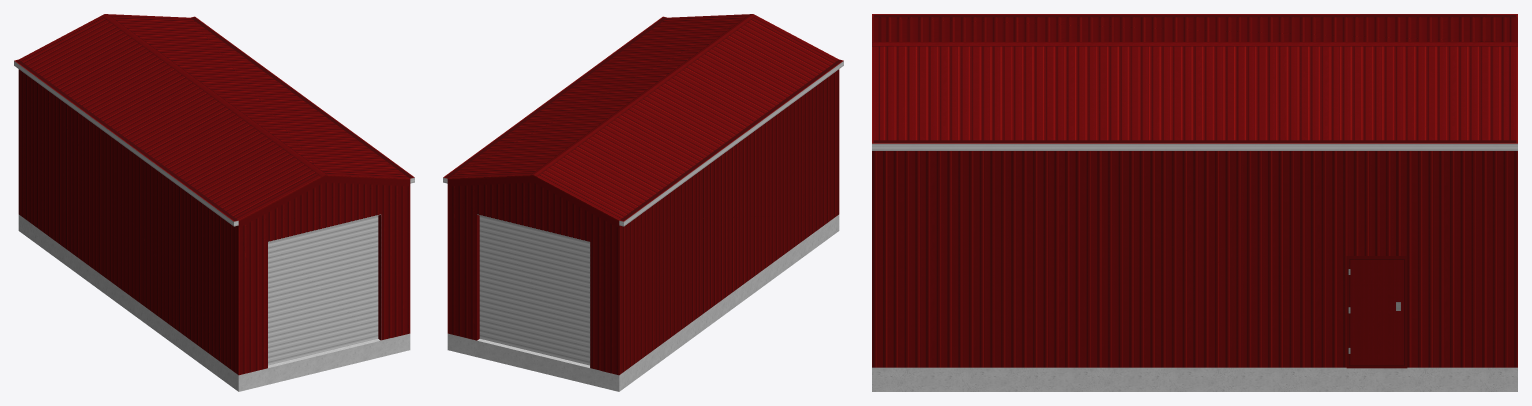
The model's file is medical-trans-station5x12-cbj_LOD00.gltf.
3 renders of one model, left to right at view 1: azimuth 30°, elevation 25°; view 2: azimuth 150°, elevation 25°; view 3: azimuth 270°, elevation 25°, orthographic. The views are drawn at different scales.
Visible parts, largest first — view 1: Cube; view 2: Cube; view 3: Cube.
Part boxes in pixels (x1,y1,x2,y2): Cube: [14, 14, 414, 391]; Cube: [443, 14, 843, 391]; Cube: [872, 14, 1517, 391].
Bounding box in the file's own units: 5.7 × 5.9 × 12.
